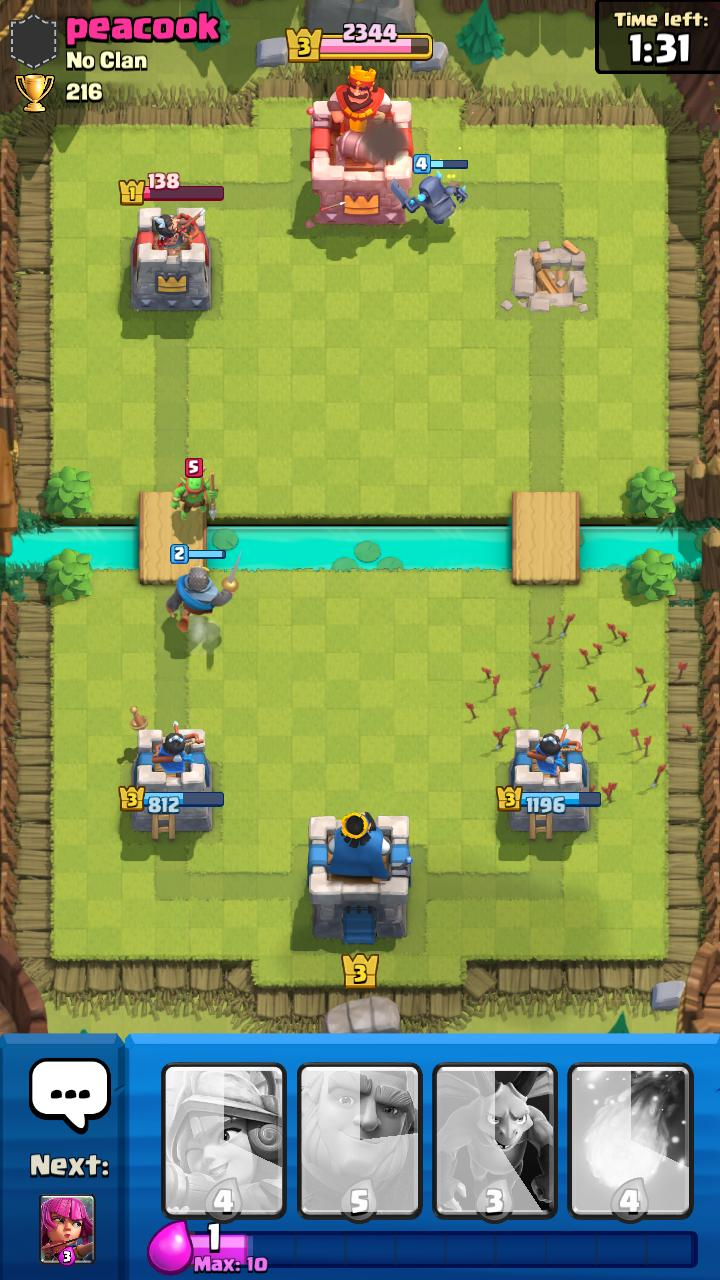ally: (165, 544, 242, 633), (390, 154, 468, 225)
enemy: (170, 458, 219, 521)
